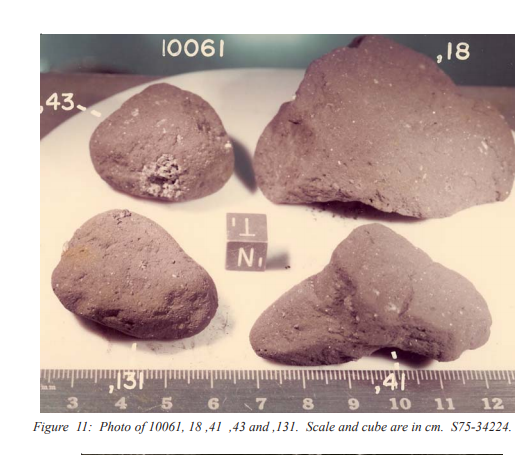Breccia: (264, 30, 508, 218), (258, 229, 489, 368), (60, 215, 222, 335), (76, 76, 233, 196)
